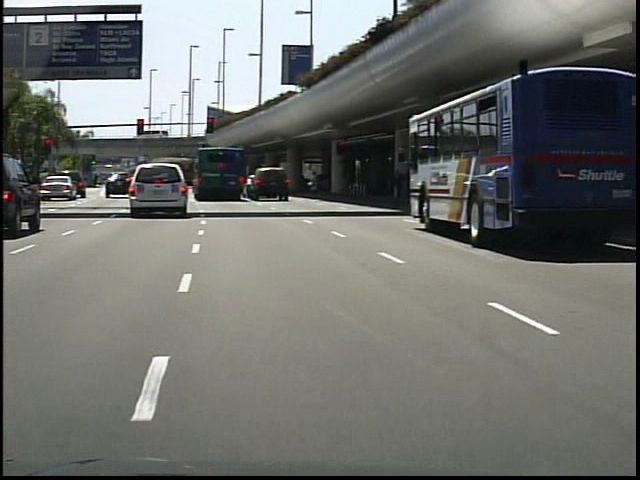person: (310, 163, 330, 200)
